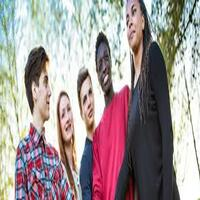person: (16, 34, 55, 121), (85, 30, 120, 101), (117, 1, 159, 52), (51, 81, 79, 150), (74, 60, 100, 129)
